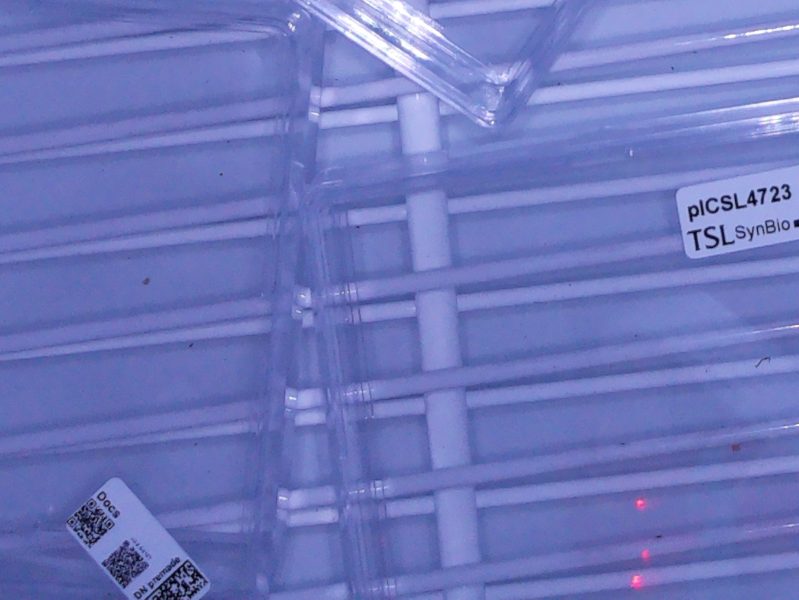plate: (307, 112, 799, 600), (1, 1, 326, 600), (291, 1, 597, 145)
